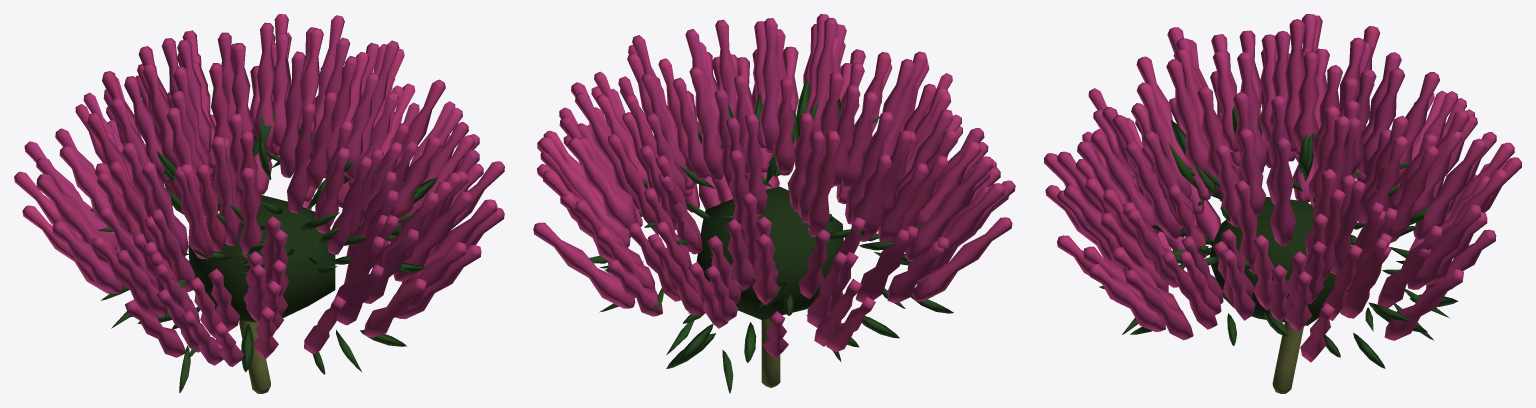
Rendered from potfill_heather.glb.
3 views of the same model, side by side, from view 1: azimuth 30°, elevation 25°; view 2: azimuth 150°, elevation 25°; view 3: azimuth 270°, elevation 25° (orthographic).
Parts seen in each view (by area): view 1: Sammel Pflanze, Sammel Blatt, Sammel Putz; view 2: Sammel Pflanze, Sammel Blatt, Sammel Putz; view 3: Sammel Pflanze, Sammel Blatt, Sammel Putz.
Part boxes in pixels (left/top/right/bottom): Sammel Pflanze: left=14, top=14, right=504, bottom=393; Sammel Blatt: left=188, top=194, right=335, bottom=322; Sammel Putz: left=239, top=320, right=270, bottom=393; Sammel Pflanze: left=533, top=14, right=1015, bottom=393; Sammel Blatt: left=696, top=186, right=843, bottom=320; Sammel Putz: left=761, top=318, right=780, bottom=387; Sammel Pflanze: left=1044, top=14, right=1521, bottom=368; Sammel Blatt: left=1210, top=197, right=1347, bottom=325; Sammel Putz: left=1272, top=322, right=1303, bottom=393.
Size of the model in its own units: 0.3079 by 0.2493 by 0.3096.
